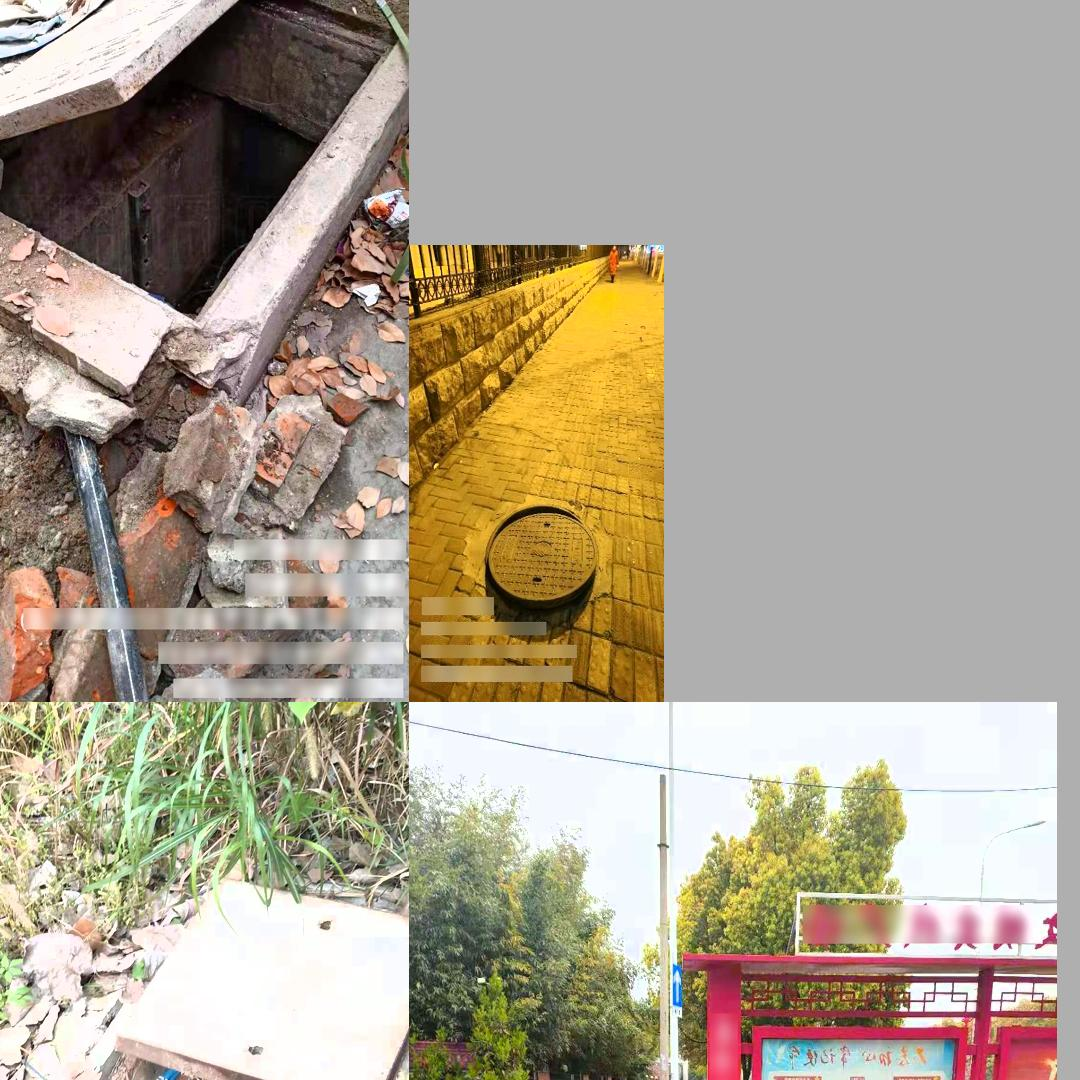uncovered: (0, 0, 407, 425), (0, 877, 409, 1080), (484, 500, 597, 606)
